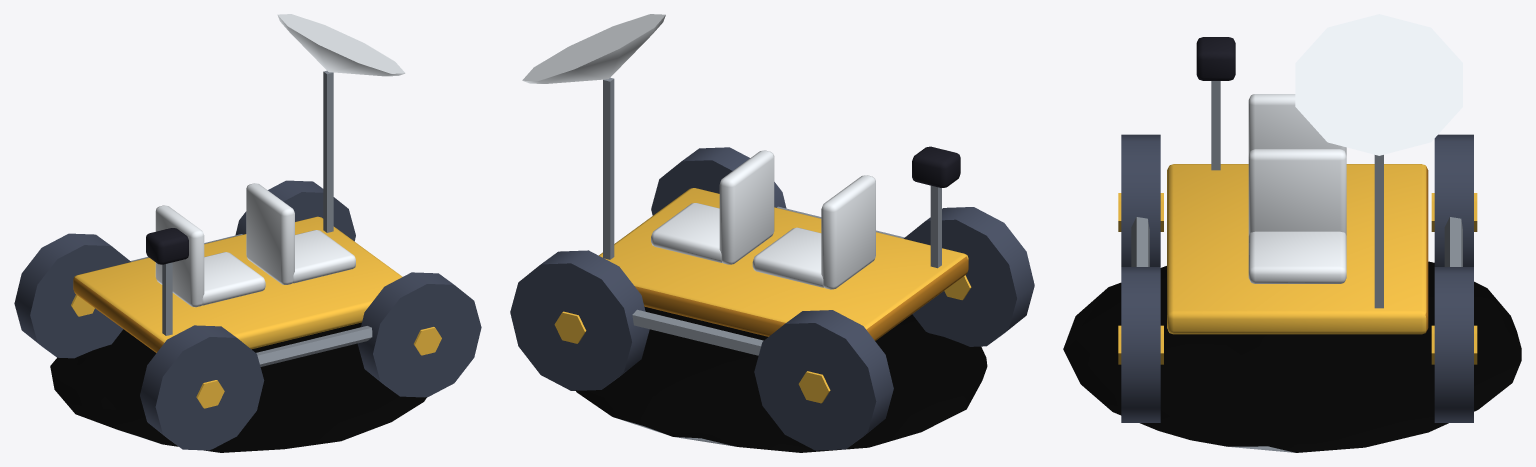
File: MoonBuggy.fbx
3 renders of one model, left to right at view 1: azimuth 30°, elevation 25°; view 2: azimuth 150°, elevation 25°; view 3: azimuth 270°, elevation 25°, orthographic. The views are drawn at different scales.
Parts seen in each view (by area): view 1: MoonBuggy; view 2: MoonBuggy; view 3: MoonBuggy.
Part boxes in pixels (bbox=[...]): MoonBuggy: bbox=[14, 14, 481, 452]; MoonBuggy: bbox=[510, 14, 1034, 452]; MoonBuggy: bbox=[1063, 14, 1521, 452].
Size of the model in its own units: 1.56 by 1.28 by 1.41.
1 material, 1 textured.
